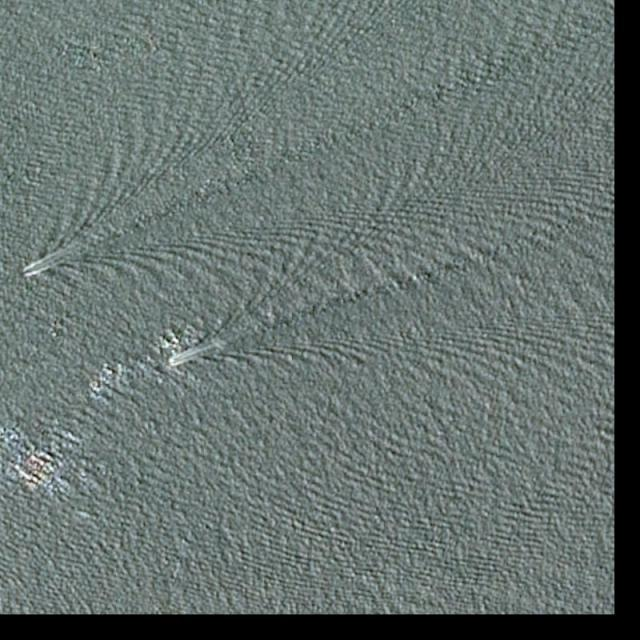ship: (22, 266, 31, 278), (167, 360, 175, 366)
